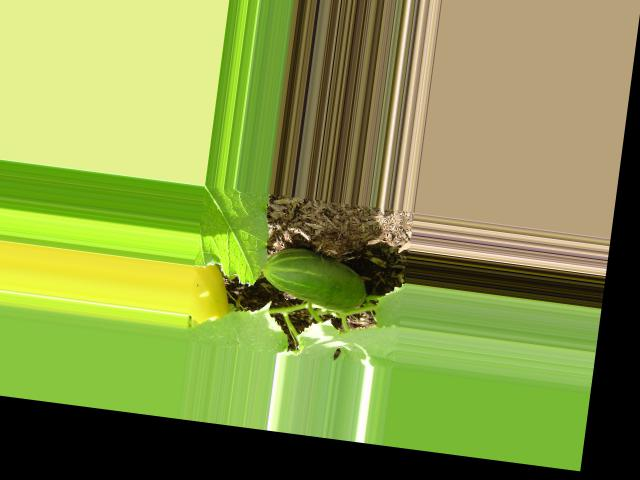cucumber: (259, 243, 371, 314)
